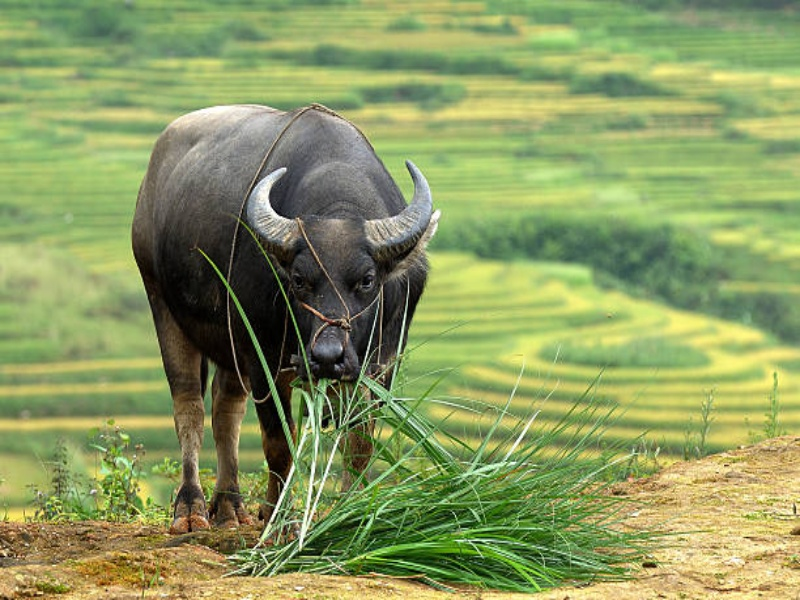buffalo: (114, 100, 450, 575)
